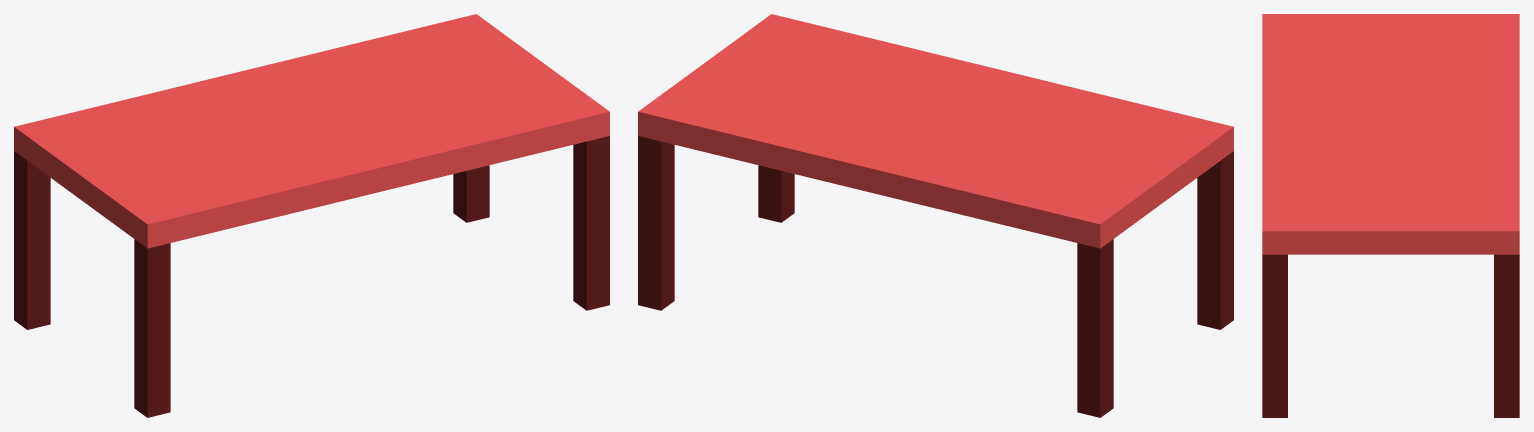
Rendered from CoffeeTable.fbx.
The picture shows the model from 3 angles, left to right: view 1: azimuth 30°, elevation 25°; view 2: azimuth 150°, elevation 25°; view 3: azimuth 270°, elevation 25°; orthographic projection. The views are drawn at different scales.
Parts seen in each view (by area): view 1: block_default_6, block_default_5, block_default_14, block_default_12, block_default_13, block_default_11; view 2: block_default_6, block_default_5, block_default_13, block_default_11, block_default_14, block_default_12; view 3: block_default_5, block_default_6, block_default_11, block_default_12.
Part boxes in pixels (x1,y1,x2,y2): block_default_6: (14, 70, 378, 248); block_default_5: (245, 14, 609, 191); block_default_14: (134, 239, 170, 417); block_default_12: (573, 136, 609, 310); block_default_13: (14, 151, 50, 329); block_default_11: (453, 165, 489, 222); block_default_6: (869, 70, 1233, 248); block_default_5: (638, 14, 1002, 191); block_default_13: (1077, 239, 1113, 417); block_default_11: (638, 136, 674, 310); block_default_14: (1197, 151, 1233, 329); block_default_12: (758, 165, 794, 222); block_default_5: (1262, 122, 1519, 254); block_default_6: (1262, 14, 1519, 122); block_default_11: (1494, 254, 1519, 417); block_default_12: (1262, 254, 1287, 417).
Bounding box in the file's own units: 20 × 8 × 10.
